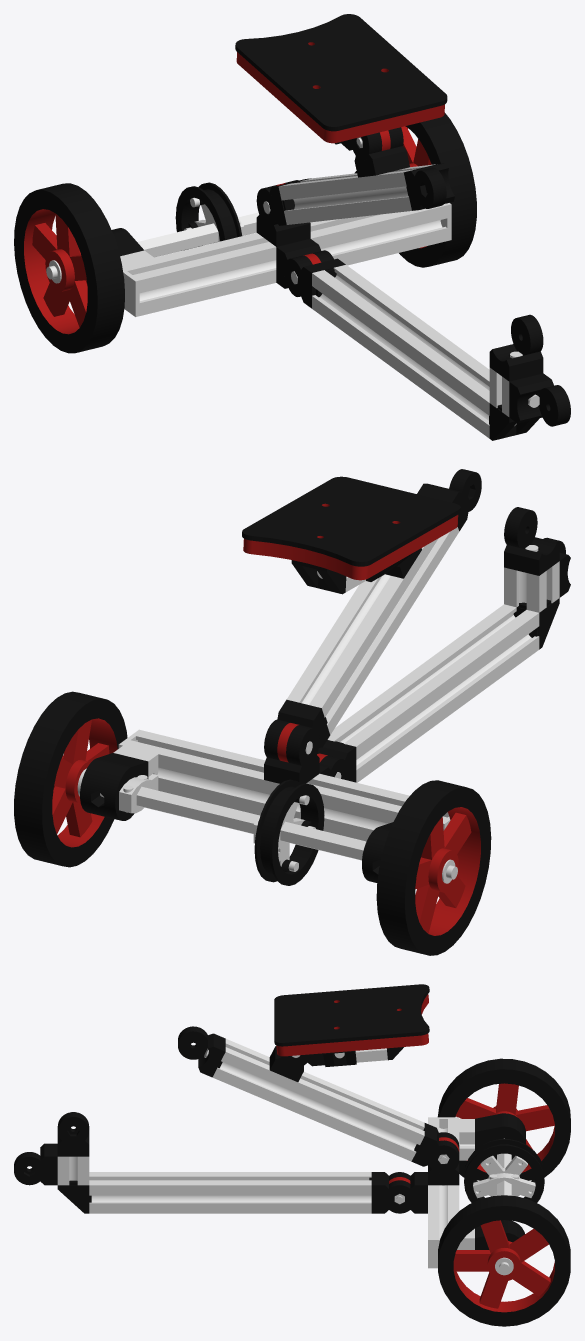
The model's file is VELO_etape3.fbx.
3 renders of one model, top to bottom at view 1: azimuth 30°, elevation 25°; view 2: azimuth 150°, elevation 25°; view 3: azimuth 270°, elevation 25°, orthographic. The views are drawn at different scales.
Visible parts, largest first — view 1: VELO_etape3; view 2: VELO_etape3; view 3: VELO_etape3.
Boxes of the visible parts, x1,y1,x2,y2 form: VELO_etape3: (14, 14, 570, 440); VELO_etape3: (14, 469, 570, 955); VELO_etape3: (14, 984, 570, 1326).
Bounding box in the file's own units: 0.459 × 0.3454 × 0.7101.
